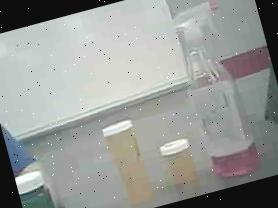Bottle A: (96, 113, 163, 208)
Bottle B: (155, 134, 203, 192)
Bottle C: (14, 162, 76, 208)
hazard: (164, 0, 276, 186)
